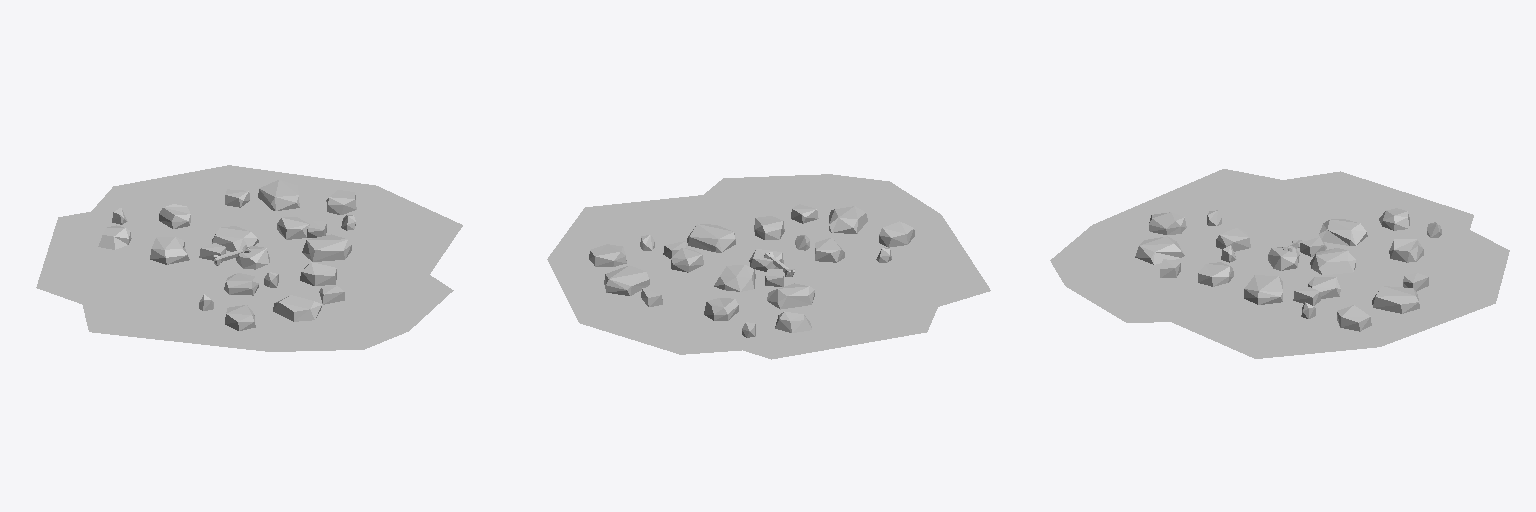
The model's file is bone.obj.
3 views of the same model, side by side, from view 1: azimuth 30°, elevation 25°; view 2: azimuth 150°, elevation 25°; view 3: azimuth 270°, elevation 25° (orthographic).
Parts seen in each view (by area): view 1: Cube.001; view 2: Cube.001; view 3: Cube.001.
Boxes of the visible parts, x1,y1,x2,y2 form: Cube.001: [36, 165, 462, 351]; Cube.001: [547, 174, 990, 359]; Cube.001: [1050, 169, 1509, 358].
Bounding box in the file's own units: 5.5 × 0.2138 × 5.62.